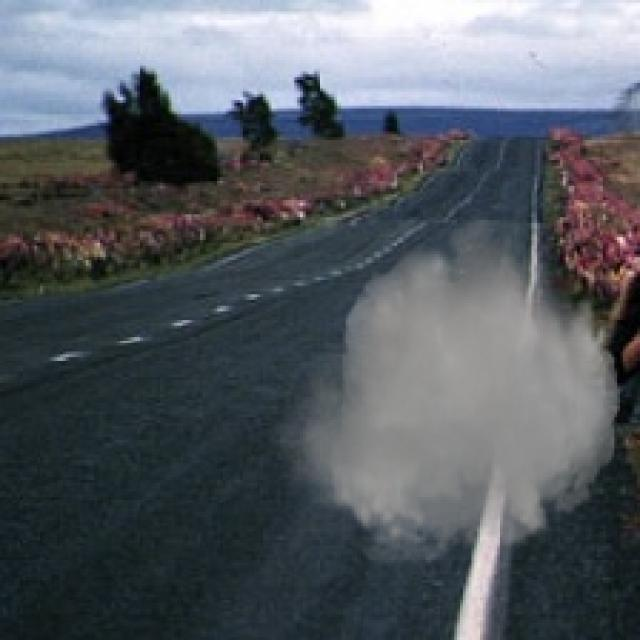Smoke: (274, 203, 629, 580)
